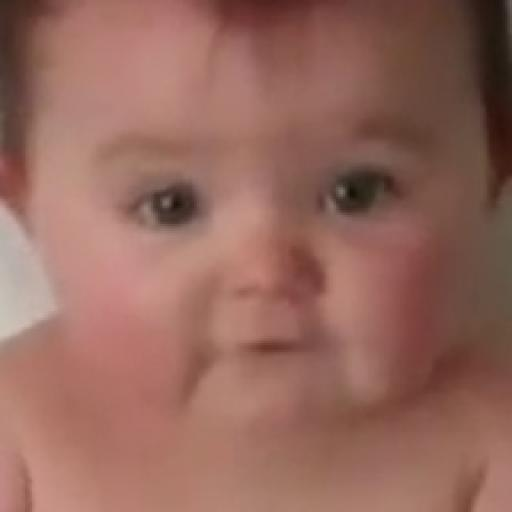Autism: (36, 42, 492, 460)
